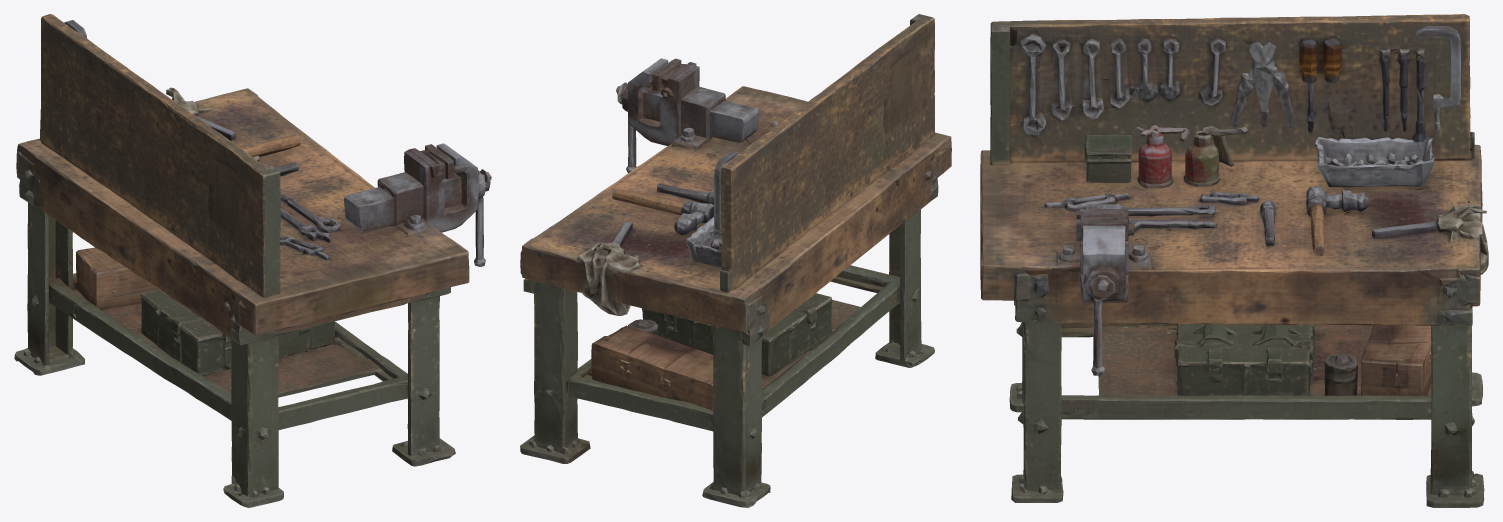
Rendered from workbench.obj.
The picture shows the model from 3 angles, left to right: view 1: azimuth 30°, elevation 25°; view 2: azimuth 150°, elevation 25°; view 3: azimuth 270°, elevation 25°; orthographic projection. The views are drawn at different scales.
Parts seen in each view (by area): view 1: workbench; view 2: workbench; view 3: workbench.
Part boxes in pixels (left/top/right/bottom): workbench: left=14, top=14, right=491, bottom=507; workbench: left=520, top=14, right=951, bottom=507; workbench: left=980, top=14, right=1488, bottom=507.
Size of the model in its own units: 1.47 by 1.56 by 1.9.
Materials: 1 (1 with a texture image).
